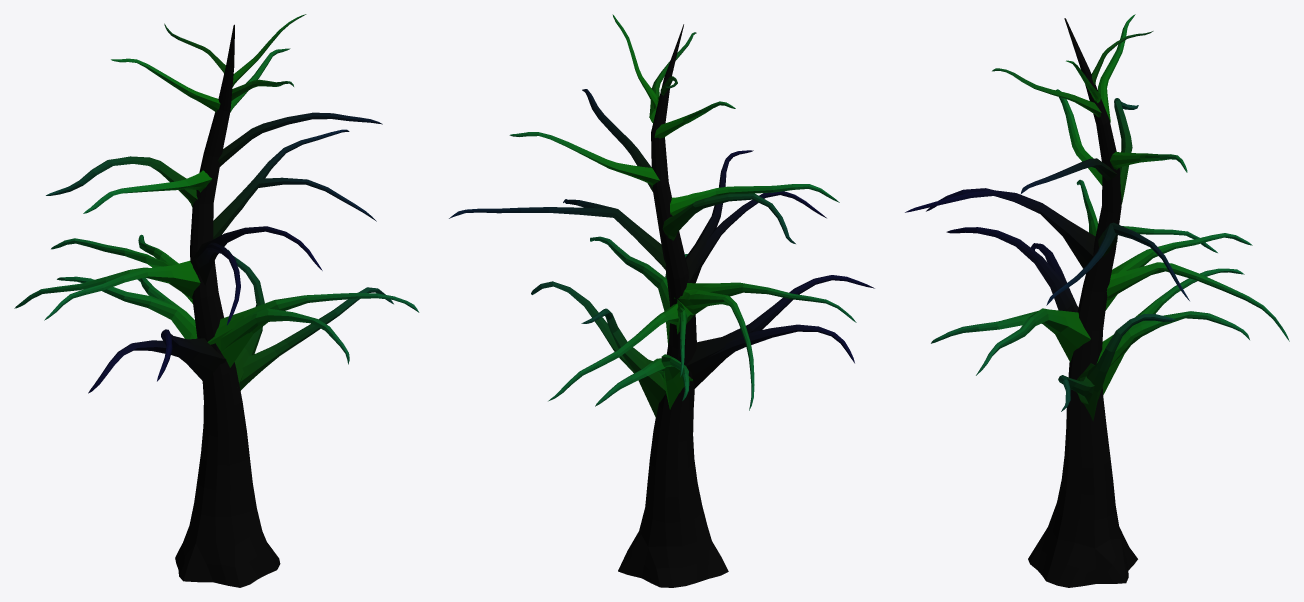
Rendered from SM_Tree1.fbx.
The picture shows the model from 3 angles, left to right: view 1: azimuth 30°, elevation 25°; view 2: azimuth 150°, elevation 25°; view 3: azimuth 270°, elevation 25°; orthographic projection. The views are drawn at different scales.
Visible parts, largest first — view 1: Tree1; view 2: Tree1; view 3: Tree1.
Part boxes in pixels (bbox=[...]): Tree1: bbox=[14, 14, 419, 587]; Tree1: bbox=[449, 14, 874, 587]; Tree1: bbox=[905, 14, 1289, 587].
Bounding box in the file's own units: 177 × 255 × 163.
